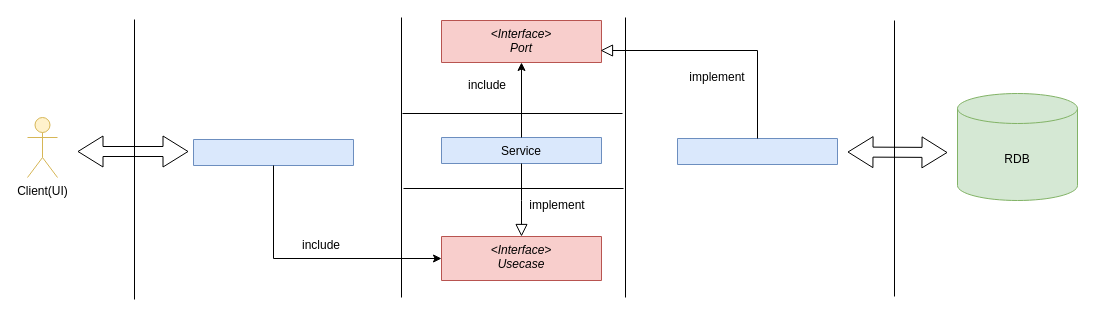
This 1095x318 diagram has some shape labels left out. Each missing label, with the centre of its shape:
Controller: (273,152)
Repository: (757,151)
